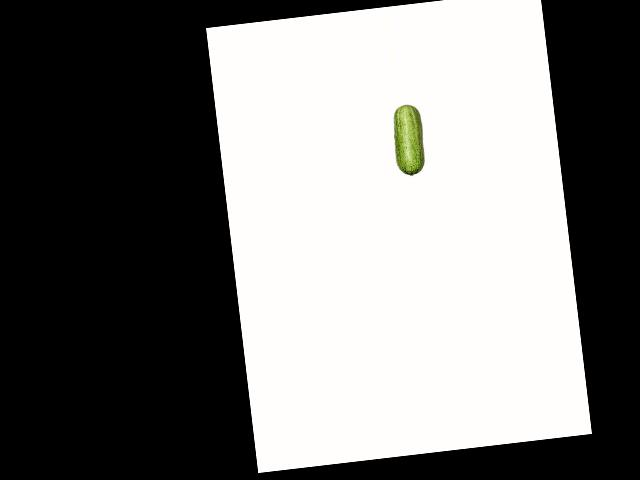cucumber: (390, 103, 427, 177)
